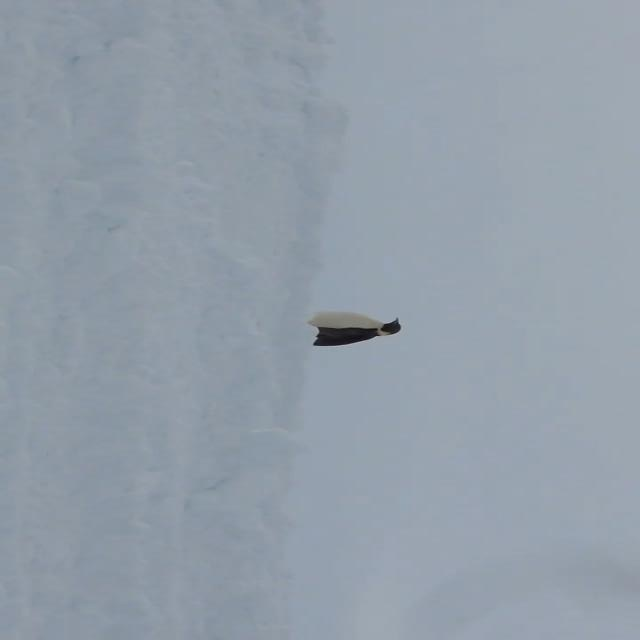penguin: (310, 309, 401, 348)
